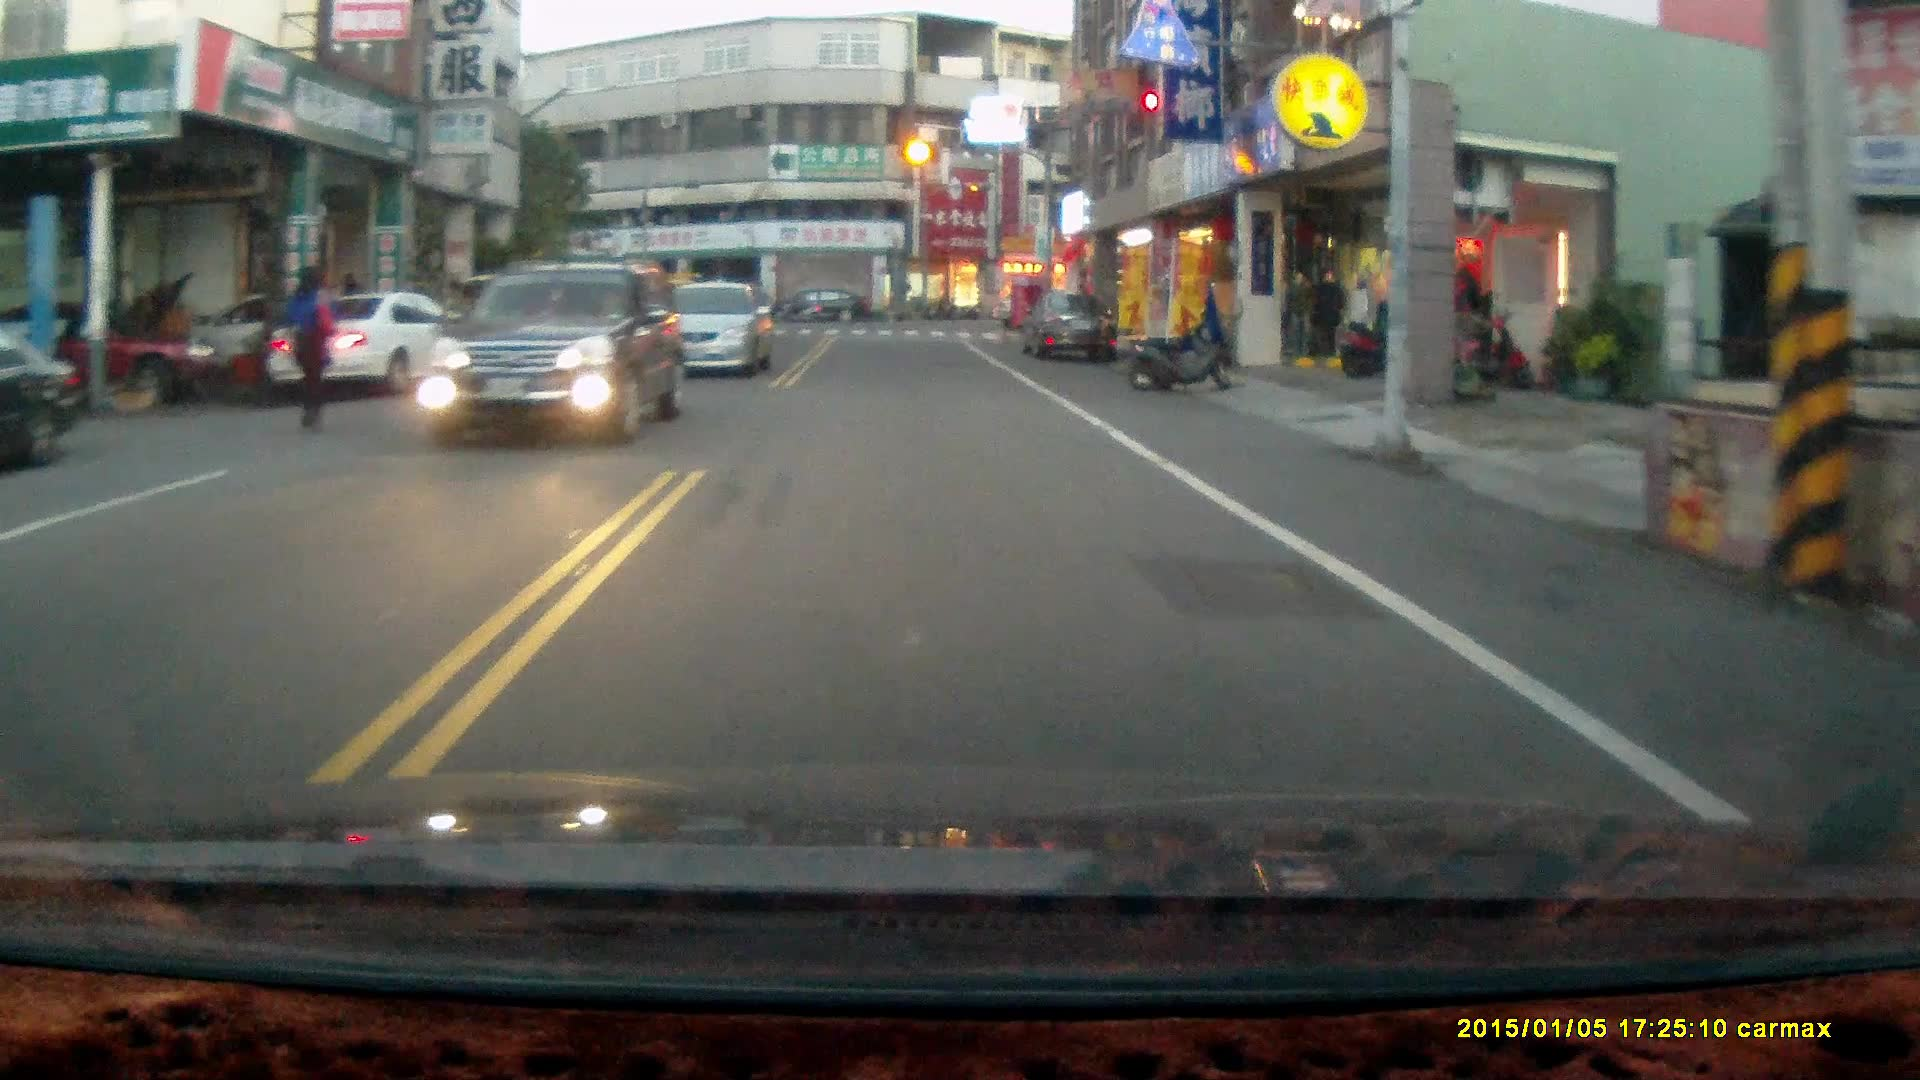pedestrian: (286, 262, 333, 435)
vehicle: (426, 261, 686, 447), (257, 293, 502, 402), (1, 317, 89, 464), (647, 278, 774, 379), (1024, 289, 1125, 371), (771, 286, 875, 330)
